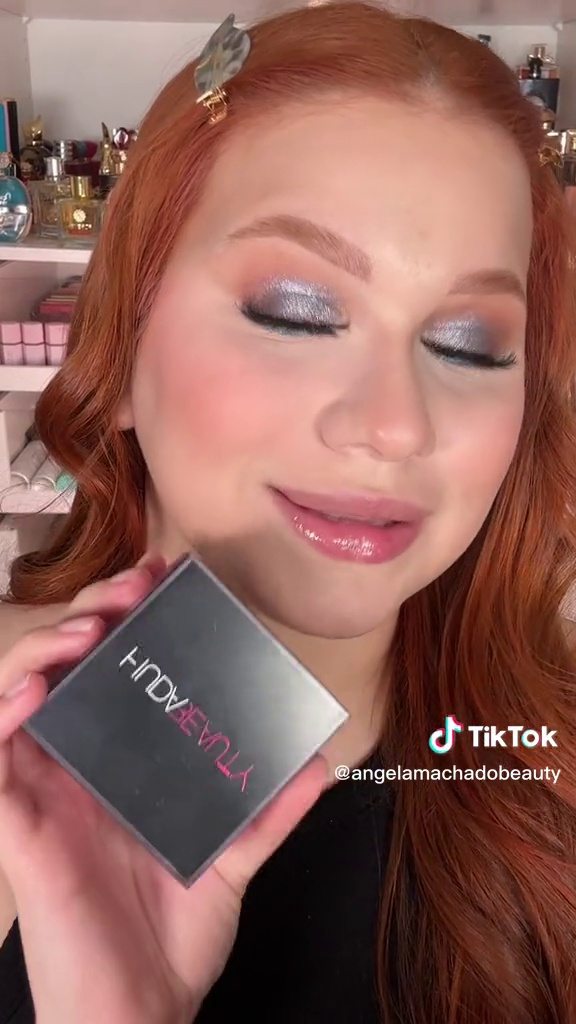train' :'yolo_data/train/images',: (16, 538, 359, 898)
